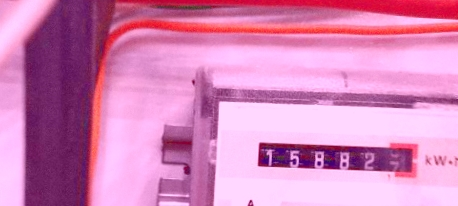1: (263, 147, 273, 165)
2: (362, 149, 375, 170)
5: (285, 148, 300, 167)
7: (386, 158, 399, 170)
8: (336, 148, 350, 170), (312, 148, 325, 168)
screen: (251, 133, 421, 181)
